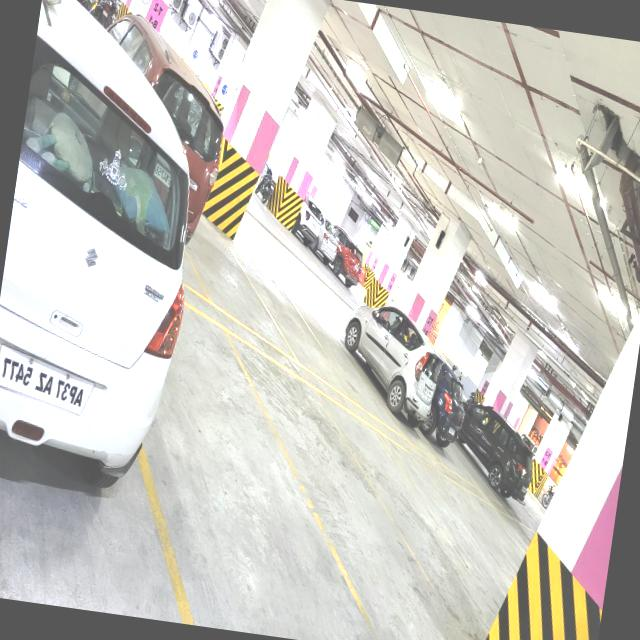car: (0, 233, 209, 620), (114, 124, 220, 271), (377, 331, 442, 439), (484, 411, 536, 498), (424, 362, 470, 448)
free: (139, 377, 353, 640), (280, 427, 458, 616), (188, 242, 282, 354), (282, 297, 358, 381)
